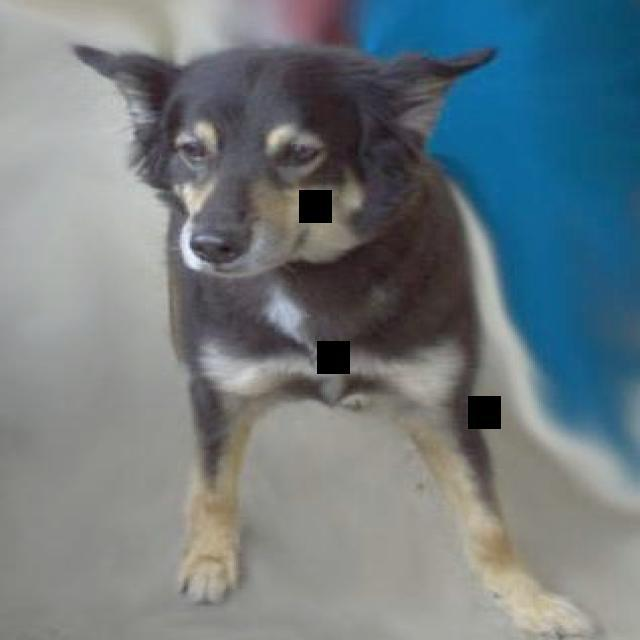adult_dog: (79, 32, 599, 640)
